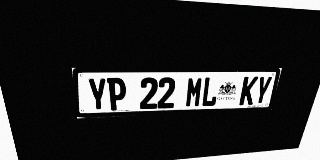2: (157, 77, 176, 109), (140, 77, 158, 109)
K: (239, 76, 259, 105)
L: (201, 77, 220, 107)
M: (185, 77, 204, 107)
P: (107, 78, 126, 111)
Y: (87, 78, 108, 111), (253, 76, 273, 105)
